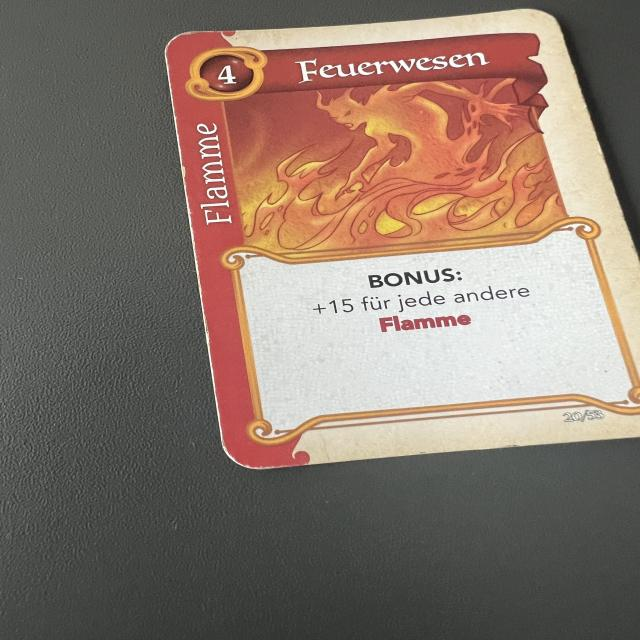Fire Elemental: (157, 8, 640, 474)
